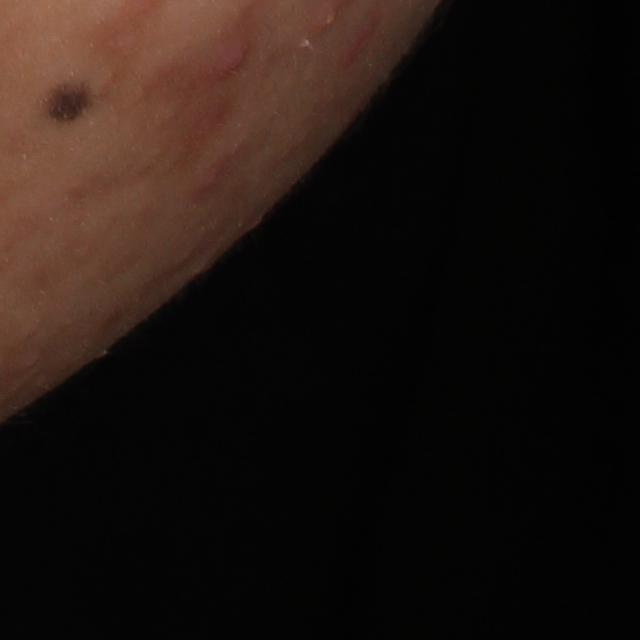nevus: (43, 77, 95, 123)
papule: (207, 30, 257, 84), (191, 162, 229, 201)
